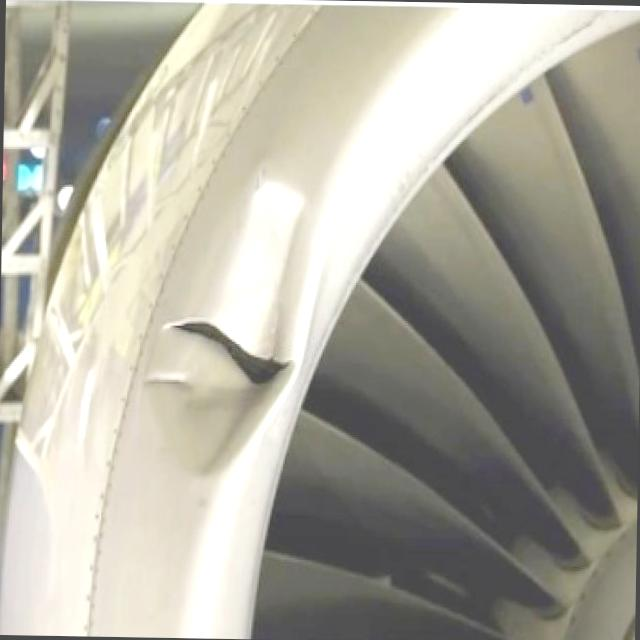crack: (154, 308, 298, 394)
dent: (187, 160, 335, 324), (145, 389, 288, 479)
